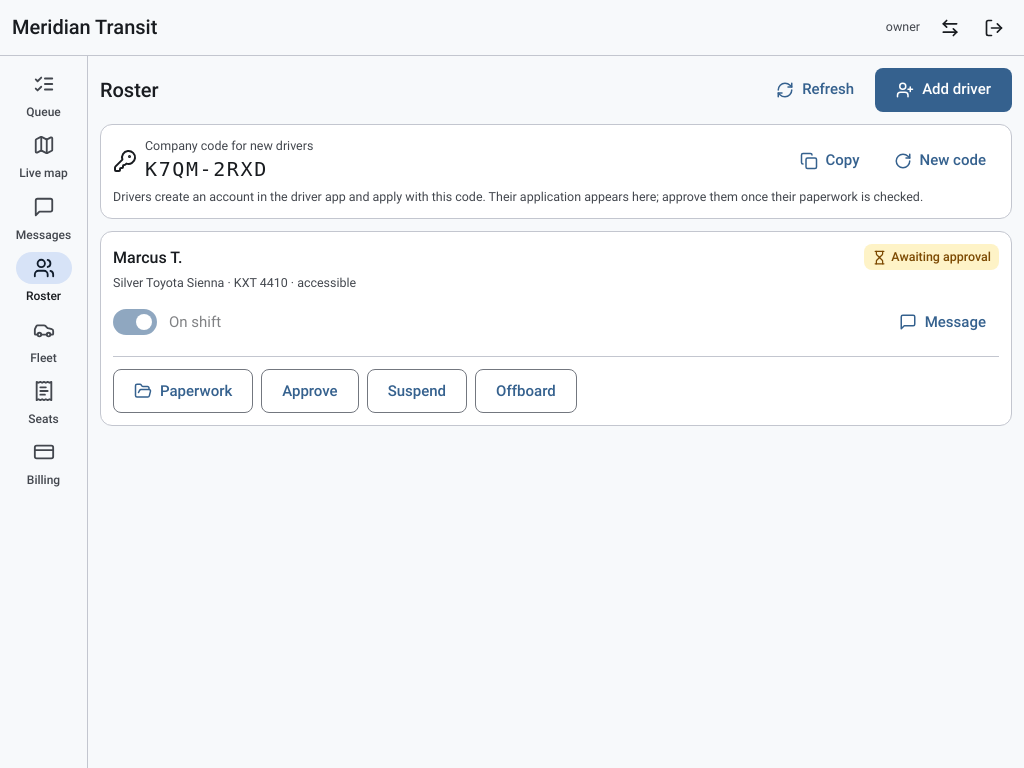
Scenario: the roster › paperwork says what is missing, and a rejection needs a reason
Click the button "Paperwork". click: (183, 391)
box: [113,369,253,413]
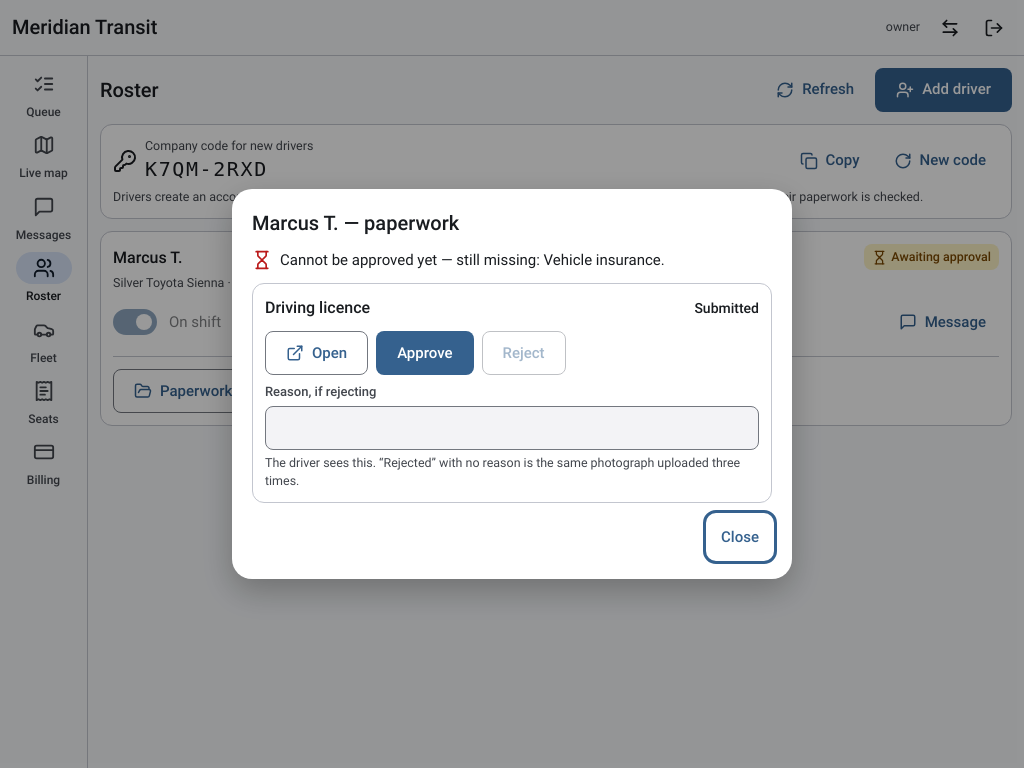
Expected: the text "Cannot be approved yet — still missing: Vehicle insurance." is shown, [280,250,665,271]
Expected: the button "Reject" is disabled, [482,332,566,376]
Type "Blurred" into the field labelled "Reason, if rejecting". click: (512, 428)
box: [265,406,759,450]
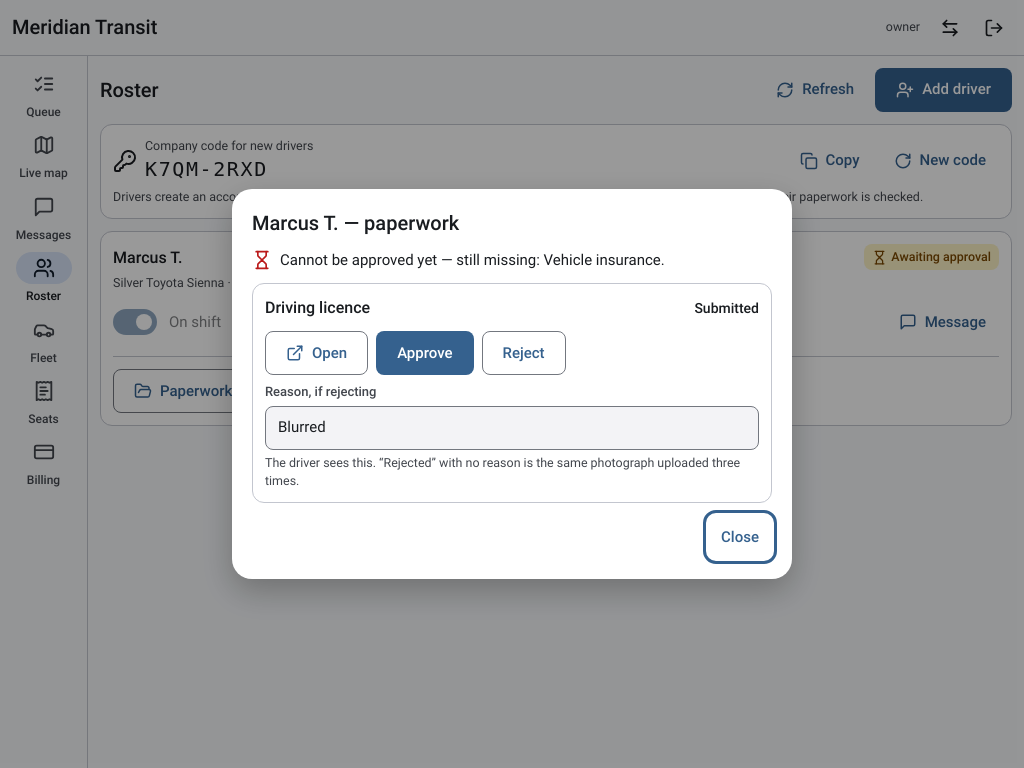
Expected: the button "Reject" is enabled, [482,332,566,376]
